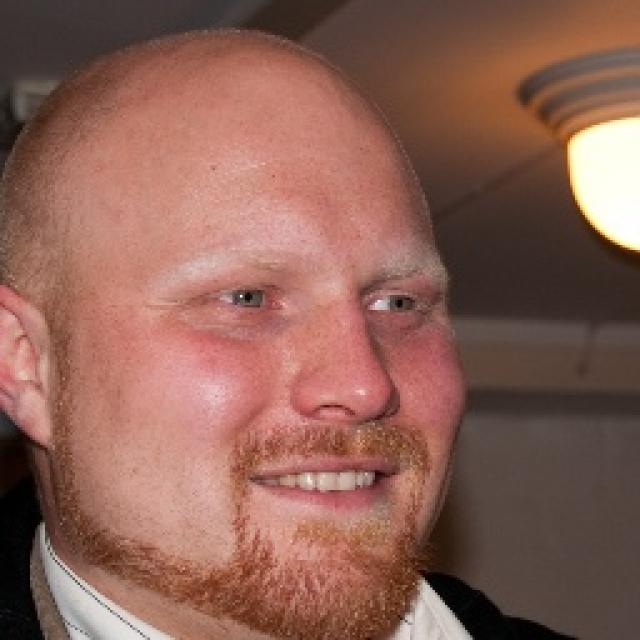earlobe: (15, 388, 53, 448)
eye: (202, 281, 285, 315), (364, 288, 428, 318)
nose: (302, 409, 407, 447)
wholeear: (0, 284, 52, 448)
